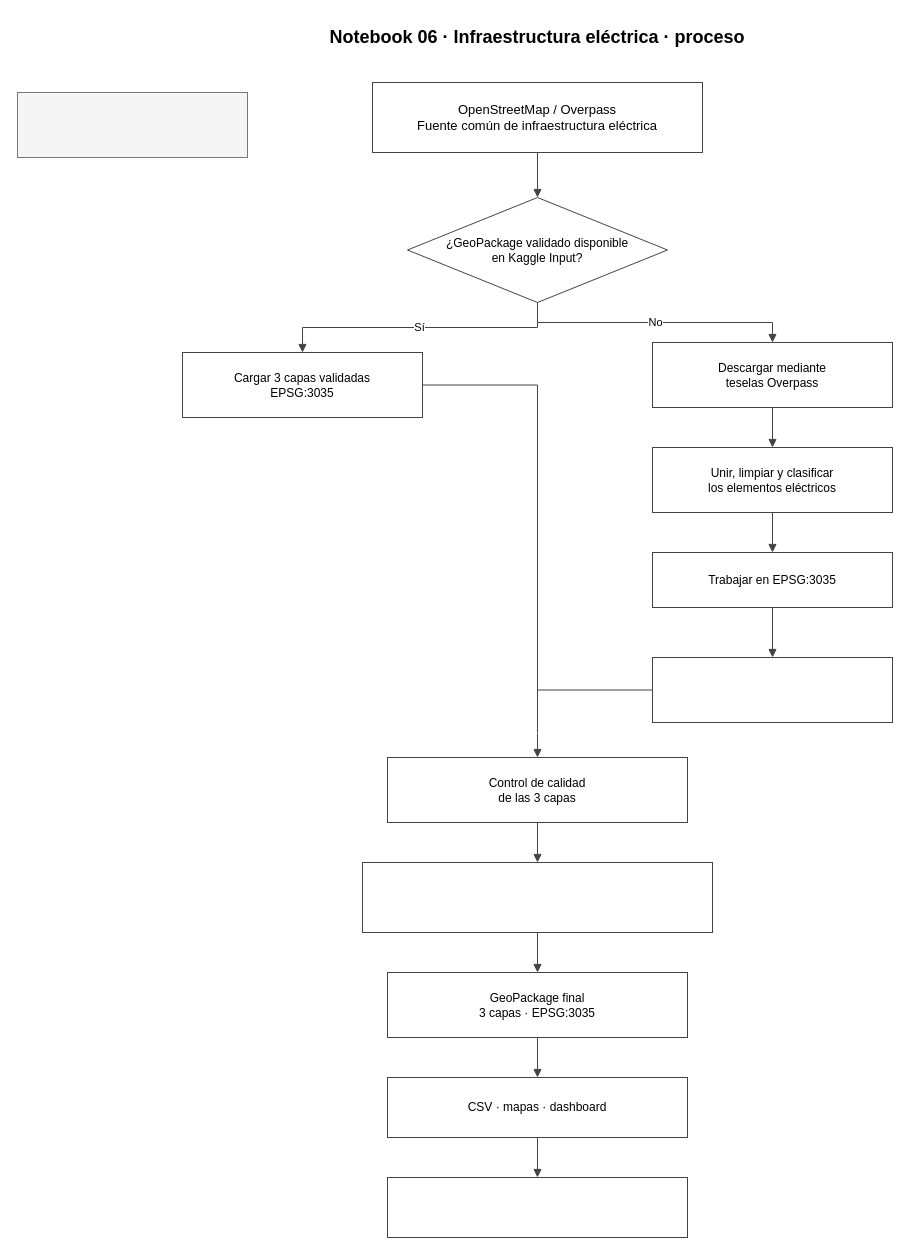
Some shapes in this 910 by 1255 pixel diagram are drawn without their labels. Here are the shapes that lost their labels. From the top down, the centre of each, then its label:
At pixel 132 125: "Redeia · REN · ENTSO-E · FEDA Fuentes oficiales de contraste".
At pixel 772 689: "Recortar al ámbito territorial del TFB".
At pixel 537 897: "Validación específica de Andorra 36 líneas · 12 alta tensión · 8 subestaciones".
At pixel 537 1207: "ZIP final · 14 archivos".
